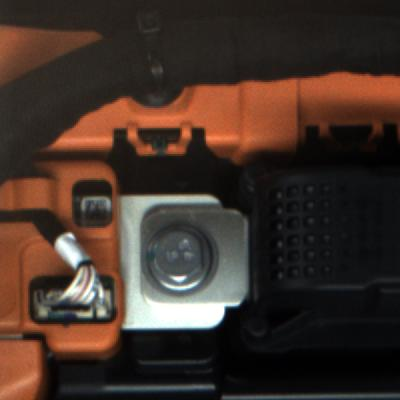nut_b: (141, 225, 231, 304)
